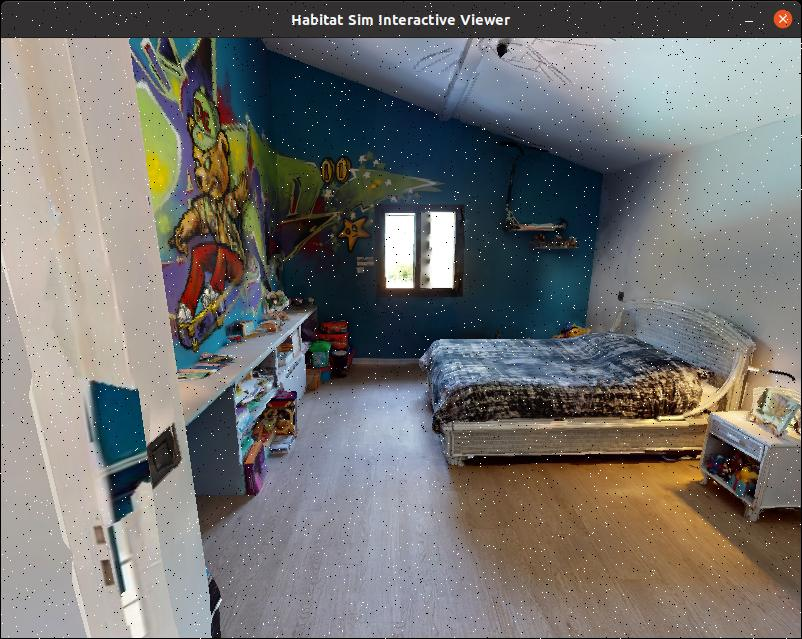bed: (427, 293, 753, 468)
